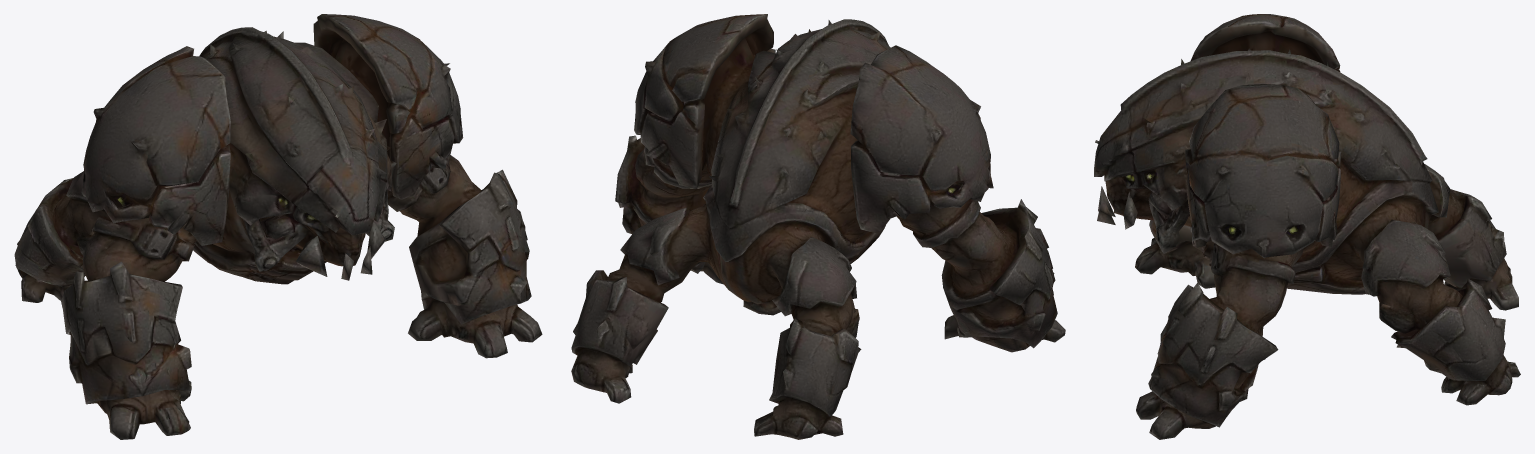
Rendered from selected.glb.
The picture shows the model from 3 angles, left to right: view 1: azimuth 30°, elevation 25°; view 2: azimuth 150°, elevation 25°; view 3: azimuth 270°, elevation 25°; orthographic projection. The views are drawn at different scales.
Parts seen in each view (by area): view 1: tripo_node_fa722de3-2649-4e96-a323-126f228e8aa9; view 2: tripo_node_fa722de3-2649-4e96-a323-126f228e8aa9; view 3: tripo_node_fa722de3-2649-4e96-a323-126f228e8aa9.
Boxes of the visible parts, x1,y1,x2,y2 form: tripo_node_fa722de3-2649-4e96-a323-126f228e8aa9: (14, 14, 542, 439); tripo_node_fa722de3-2649-4e96-a323-126f228e8aa9: (571, 14, 1065, 439); tripo_node_fa722de3-2649-4e96-a323-126f228e8aa9: (1094, 14, 1520, 439).
Size of the model in its own units: 1 by 0.6614 by 0.8787.
Materials: 1 (1 with a texture image).
